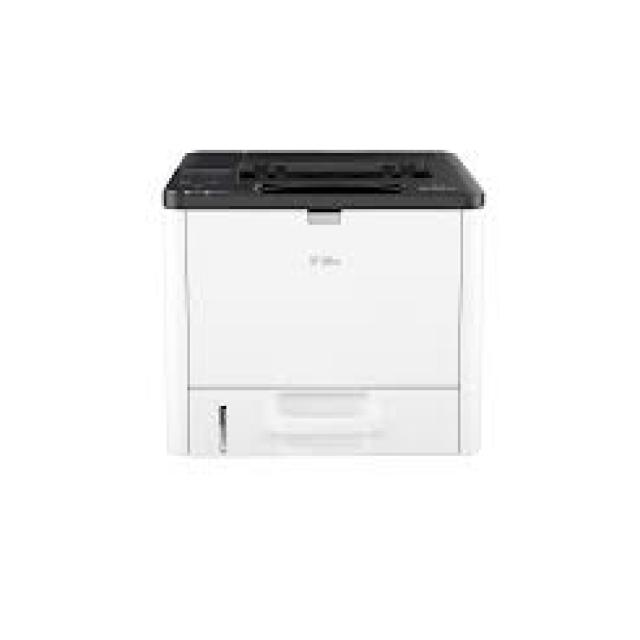printer: (158, 147, 486, 459)
